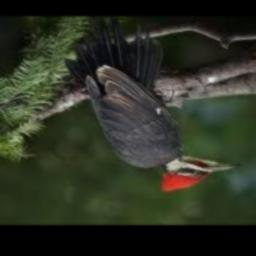Woodpecker: (67, 17, 238, 194)
